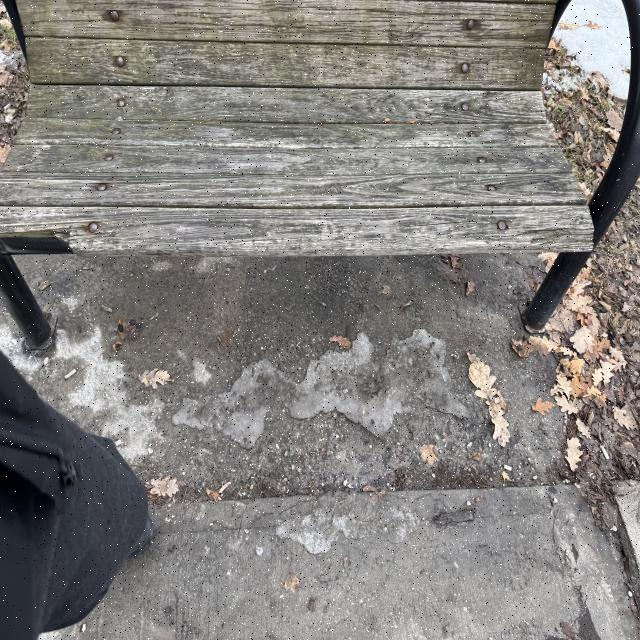Bench: (1, 2, 640, 336)
